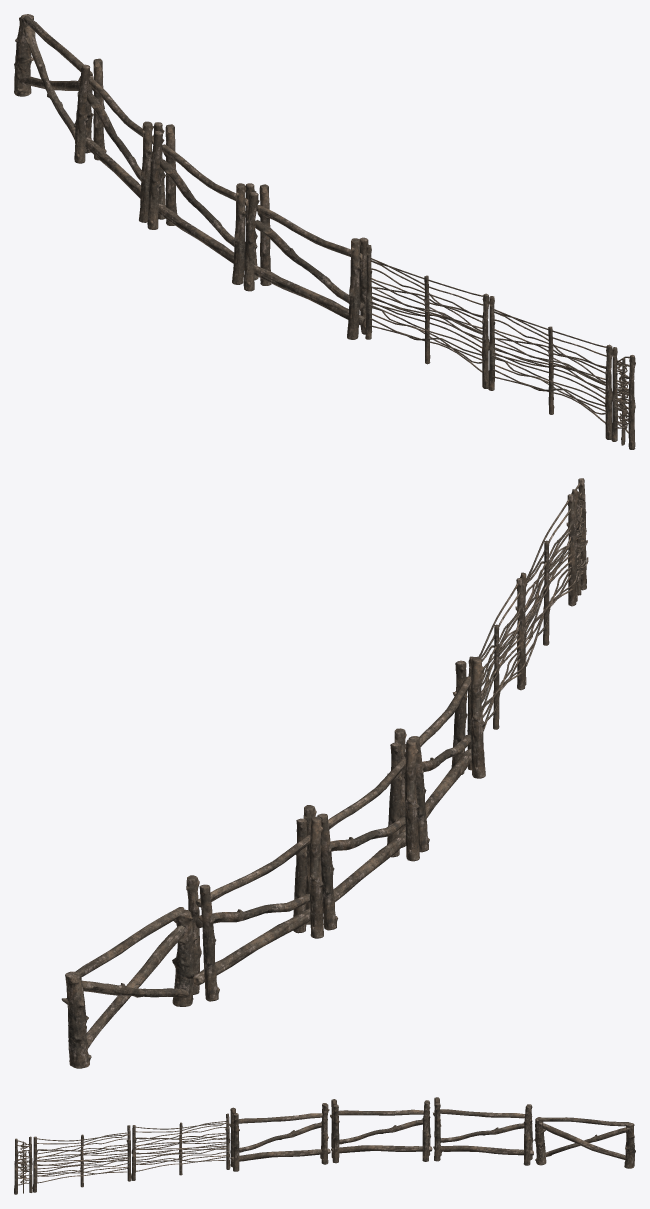
The model's file is SM_Fence_01b_Splines_19.fbx.
3 renders of one model, top to bottom at view 1: azimuth 30°, elevation 25°; view 2: azimuth 150°, elevation 25°; view 3: azimuth 270°, elevation 25°, orthographic. The views are drawn at different scales.
Visible parts, largest first — view 1: SM_Fence_01b_Splines_13_LOD0; view 2: SM_Fence_01b_Splines_13_LOD0; view 3: SM_Fence_01b_Splines_13_LOD0.
Part boxes in pixels (x1,y1,x2,y2): SM_Fence_01b_Splines_13_LOD0: (14, 14, 635, 449); SM_Fence_01b_Splines_13_LOD0: (61, 478, 588, 1068); SM_Fence_01b_Splines_13_LOD0: (14, 1097, 635, 1194).
Bounding box in the file's own units: 211 × 1349 × 140.
